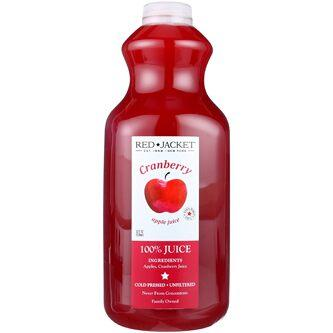juice: (101, 0, 234, 333)
